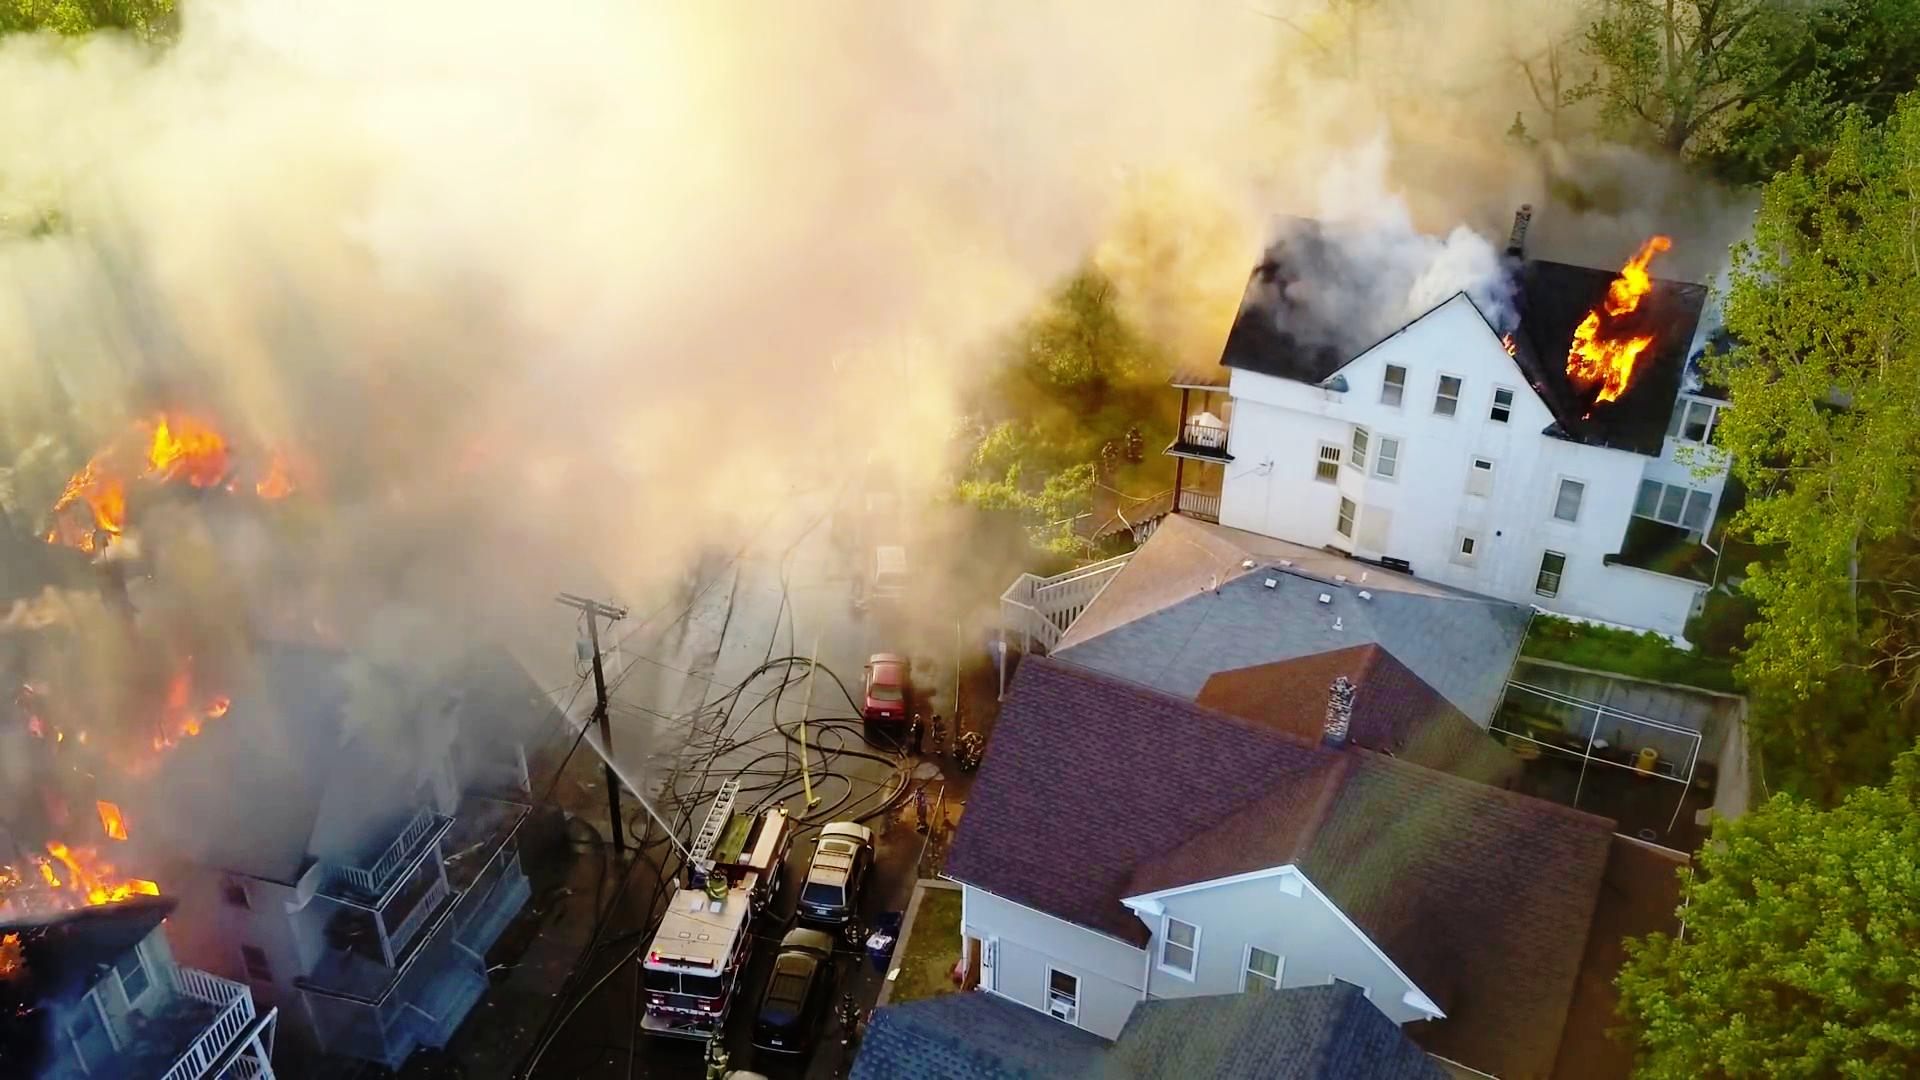fire: (57, 414, 232, 530), (1547, 273, 1663, 402), (33, 848, 150, 905)
smoke: (435, 5, 800, 491)
